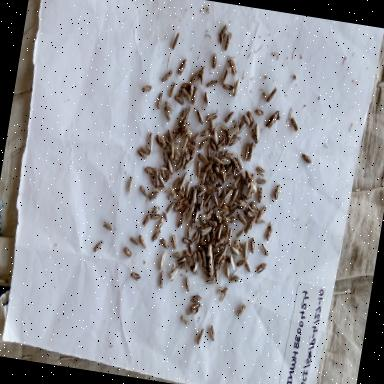pbw: (225, 54, 240, 78), (214, 282, 230, 304), (270, 180, 284, 205), (169, 28, 182, 54), (216, 21, 229, 47), (176, 54, 190, 78), (192, 325, 206, 349), (155, 249, 168, 274), (192, 104, 206, 127), (258, 239, 274, 259), (222, 28, 234, 54), (230, 74, 243, 98), (265, 84, 279, 106), (234, 300, 248, 322), (144, 129, 156, 154), (288, 114, 302, 135), (176, 86, 194, 102), (178, 168, 190, 192), (176, 312, 192, 330), (219, 64, 232, 86), (200, 88, 213, 110), (232, 151, 246, 171), (254, 258, 268, 278), (176, 105, 188, 128), (124, 172, 136, 195), (194, 239, 210, 256), (92, 237, 106, 256), (185, 78, 196, 102), (206, 322, 218, 344), (205, 108, 221, 124), (188, 290, 204, 306), (146, 202, 162, 218), (100, 218, 116, 234), (298, 150, 314, 166), (247, 233, 258, 256), (136, 182, 150, 200), (153, 132, 167, 150), (136, 232, 150, 250), (226, 122, 240, 140), (230, 185, 240, 210), (241, 255, 254, 274), (243, 106, 256, 125), (264, 220, 275, 242), (182, 106, 193, 128), (196, 190, 207, 212), (198, 63, 208, 87), (139, 81, 154, 97), (246, 140, 256, 164), (206, 165, 218, 185), (176, 210, 188, 230), (194, 156, 204, 180), (226, 252, 238, 272), (119, 244, 134, 260), (127, 268, 143, 283), (226, 133, 242, 148), (172, 154, 184, 174), (164, 157, 176, 177), (232, 236, 245, 254), (200, 223, 213, 241), (255, 184, 266, 205), (247, 211, 258, 232), (186, 202, 196, 225), (225, 225, 235, 248), (257, 202, 269, 221), (253, 163, 268, 178), (134, 146, 148, 162), (142, 163, 158, 177), (201, 207, 215, 223), (192, 180, 208, 194), (157, 235, 171, 251), (232, 195, 248, 209), (179, 234, 195, 248), (196, 150, 210, 166), (242, 168, 256, 184), (166, 184, 180, 200), (235, 210, 249, 226), (182, 272, 192, 294), (206, 249, 216, 271), (244, 180, 255, 200), (156, 269, 166, 291), (241, 140, 251, 162), (188, 139, 198, 161), (208, 224, 218, 246), (210, 50, 220, 72), (224, 108, 236, 126), (190, 66, 202, 84), (222, 186, 234, 204), (140, 211, 152, 229), (168, 258, 177, 282), (161, 104, 173, 122), (182, 156, 194, 174), (214, 250, 226, 268), (228, 271, 242, 286), (138, 141, 153, 155), (253, 121, 263, 142), (205, 76, 219, 91), (212, 265, 222, 286), (240, 238, 250, 259), (172, 93, 186, 108), (168, 231, 179, 250), (202, 189, 213, 208), (219, 241, 230, 260), (147, 188, 160, 204), (174, 252, 187, 268), (150, 228, 162, 245), (210, 192, 222, 209), (164, 198, 176, 215), (214, 231, 226, 248), (194, 248, 204, 268), (199, 248, 209, 268), (213, 178, 223, 198), (190, 184, 200, 204), (244, 216, 254, 236), (154, 90, 164, 110), (204, 238, 214, 258), (180, 133, 190, 153), (154, 214, 164, 234), (218, 168, 228, 188), (152, 167, 162, 187), (197, 135, 208, 153), (211, 128, 222, 146), (152, 182, 166, 196), (188, 300, 202, 314), (221, 80, 235, 94), (219, 154, 232, 169), (200, 276, 216, 288), (246, 178, 258, 194), (162, 98, 174, 114), (128, 232, 140, 248), (172, 128, 184, 144), (235, 120, 246, 137), (249, 126, 260, 143), (173, 186, 186, 200), (247, 198, 260, 212), (169, 248, 184, 260), (160, 147, 170, 165), (167, 80, 176, 100), (222, 262, 232, 280), (200, 265, 212, 280), (237, 174, 246, 194), (161, 130, 171, 148), (164, 126, 174, 144), (190, 258, 200, 276), (232, 170, 242, 188), (204, 142, 214, 160), (183, 126, 194, 142), (207, 136, 218, 152), (196, 212, 207, 228), (216, 220, 224, 242), (190, 84, 198, 106), (190, 128, 201, 144), (168, 141, 177, 160), (171, 175, 181, 192), (240, 112, 252, 126), (182, 246, 194, 260), (224, 213, 238, 225), (184, 178, 192, 198), (190, 228, 200, 244), (164, 168, 174, 184), (207, 118, 217, 134), (175, 194, 187, 207), (198, 125, 210, 138), (172, 201, 184, 214), (218, 123, 232, 134), (148, 211, 162, 222), (156, 172, 168, 184), (222, 172, 234, 184), (221, 146, 229, 164), (178, 78, 190, 90), (184, 139, 196, 151), (187, 186, 195, 204), (206, 216, 218, 228), (200, 168, 208, 186), (254, 106, 266, 118), (211, 154, 223, 166), (180, 258, 190, 272), (216, 138, 226, 152), (235, 226, 245, 240), (148, 175, 158, 189), (214, 210, 224, 224), (166, 140, 180, 150), (186, 242, 196, 256), (206, 194, 213, 213), (190, 220, 202, 231), (216, 207, 228, 218), (170, 124, 182, 135), (254, 216, 267, 226), (160, 209, 170, 222), (222, 252, 235, 262), (255, 176, 268, 186), (180, 202, 188, 218), (204, 182, 216, 192), (226, 182, 238, 192), (196, 186, 206, 198), (228, 205, 238, 216), (210, 244, 220, 255), (219, 203, 230, 213), (204, 161, 213, 173), (172, 146, 182, 156), (212, 169, 219, 180), (159, 164, 168, 172)
